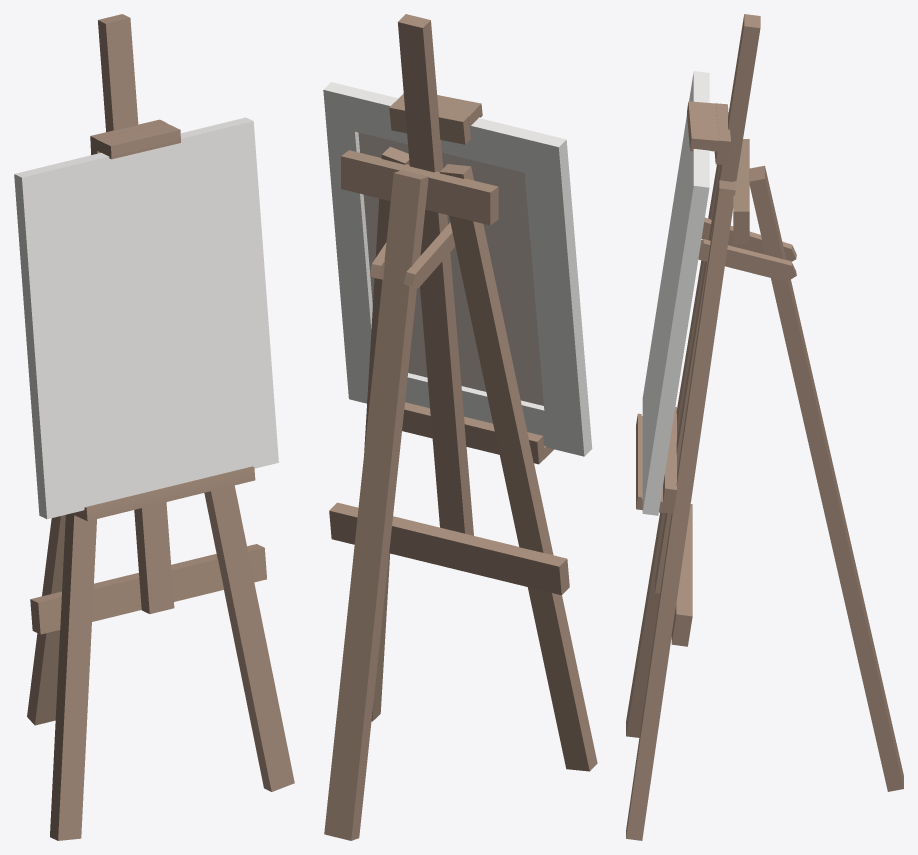
File: Easel.glb
3 renders of one model, left to right at view 1: azimuth 30°, elevation 25°; view 2: azimuth 150°, elevation 25°; view 3: azimuth 270°, elevation 25°, orthographic.
Visible parts, largest first — view 1: Easel; view 2: Easel; view 3: Easel.
Boxes of the visible parts, left/top/right/bottom form: Easel: left=14, top=14, right=294, bottom=840; Easel: left=323, top=14, right=597, bottom=840; Easel: left=626, top=14, right=903, bottom=840.
Size of the model in its own units: 1.12 by 3.35 by 1.1.
Materials: 1 (1 with a texture image).
